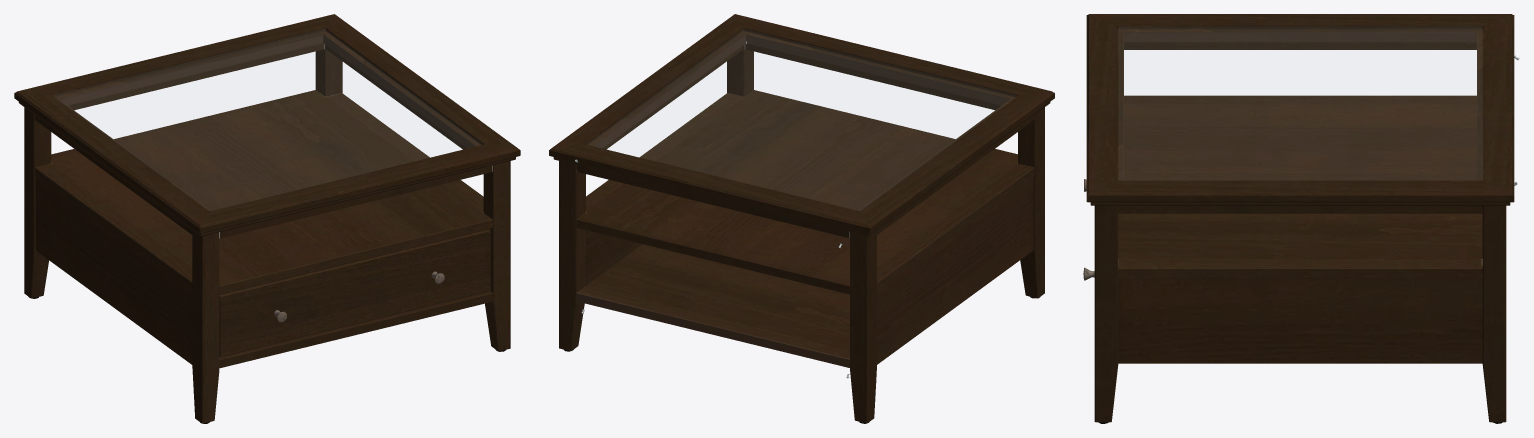
The picture shows the model from 3 angles, left to right: view 1: azimuth 30°, elevation 25°; view 2: azimuth 150°, elevation 25°; view 3: azimuth 270°, elevation 25°; orthographic projection. The views are drawn at different scales.
Visible parts, largest first — view 1: ASY_ART_10500002_S01_NV01, ASY_LPT04_10500002_S01_NV01; view 2: ASY_ART_10500002_S01_NV01; view 3: ASY_ART_10500002_S01_NV01.
Part boxes in pixels (x1=…): ASY_ART_10500002_S01_NV01: x1=14, y1=14, x2=520, y2=423; ASY_LPT04_10500002_S01_NV01: x1=219, y1=229, x2=490, y2=356; ASY_ART_10500002_S01_NV01: x1=549, y1=14, x2=1054, y2=423; ASY_ART_10500002_S01_NV01: x1=1086, y1=14, x2=1519, y2=423.
Bounding box in the file's own units: 0.7999 × 0.485 × 0.816.
Materials: 7 (5 with a texture image).
